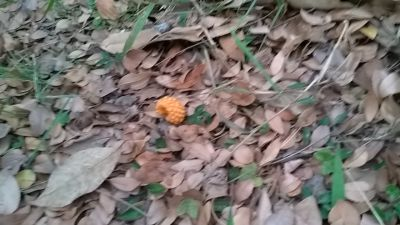eggs: (154, 96, 187, 125)
